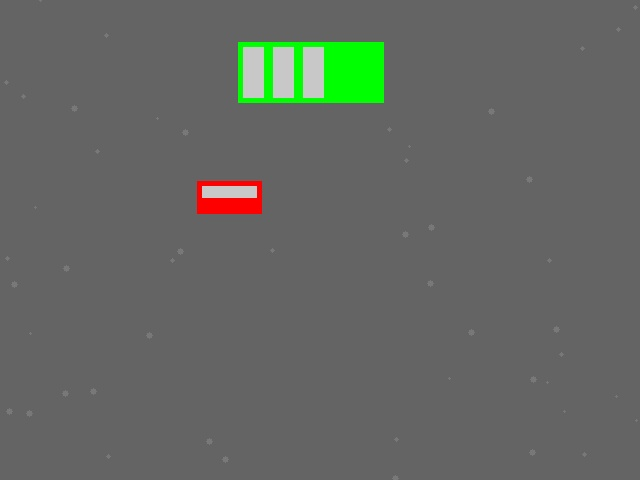bus: (238, 42, 383, 102)
car: (197, 181, 261, 213)
